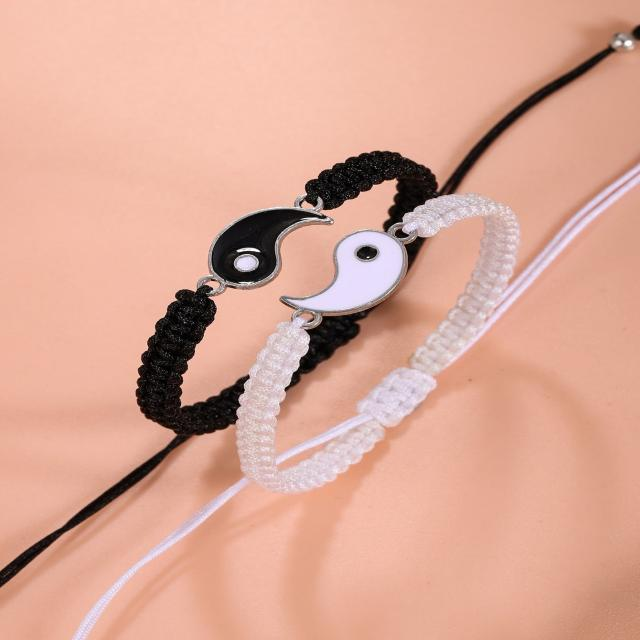bracelet: (0, 88, 613, 472)
